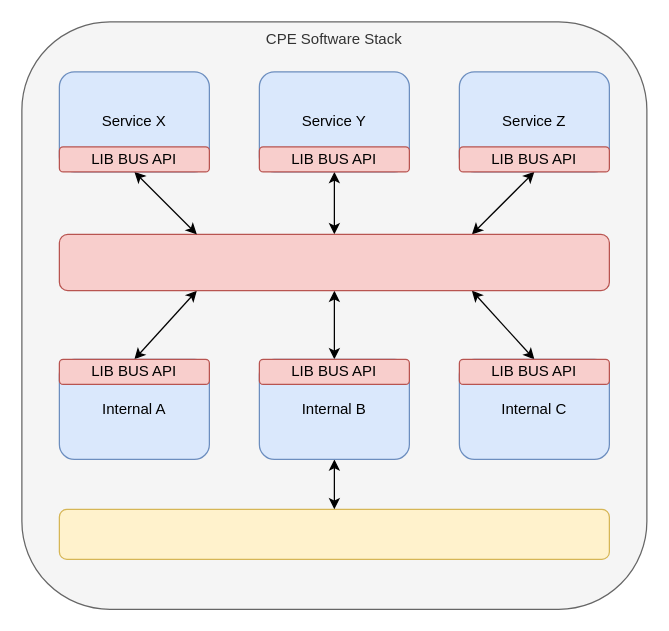
This 669x631 diagram has some shape labels left out. The shapes that lost their labels are listed below. From the top down, each one's centre as x and y in pixels, then its label:
At [333,262]: "The System Bus".
At [333,533]: "HAL / Kernel".
